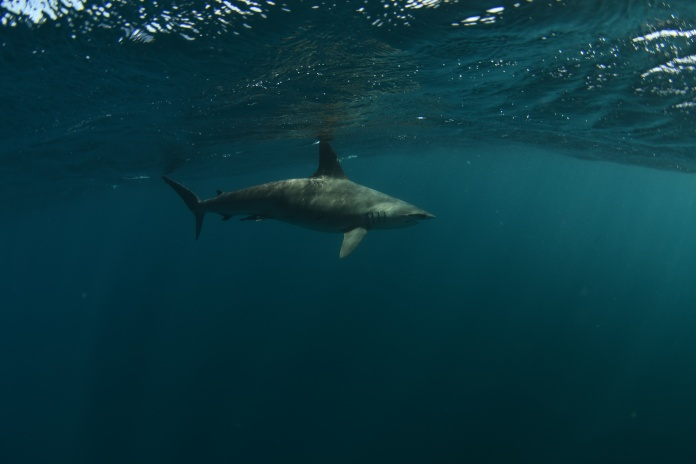Hammer: (110, 100, 498, 293)
